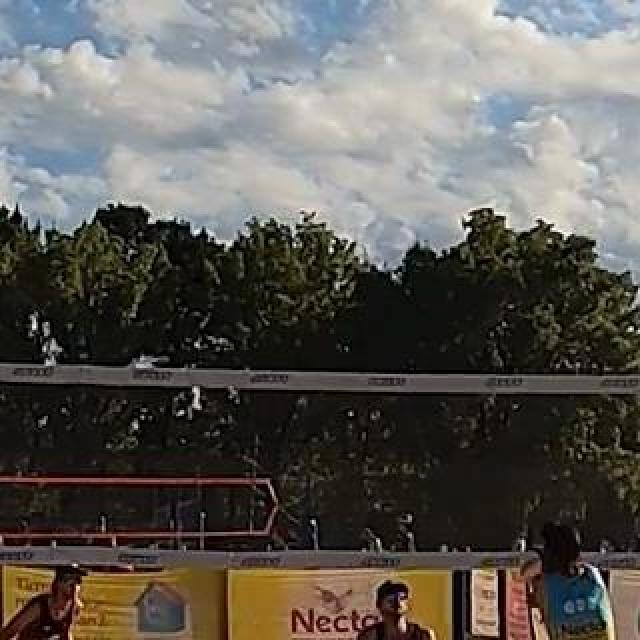volleyball: (516, 547, 552, 583)
